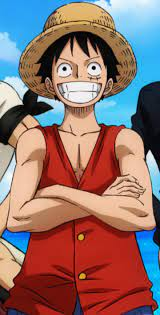luffy: (7, 2, 157, 311)
